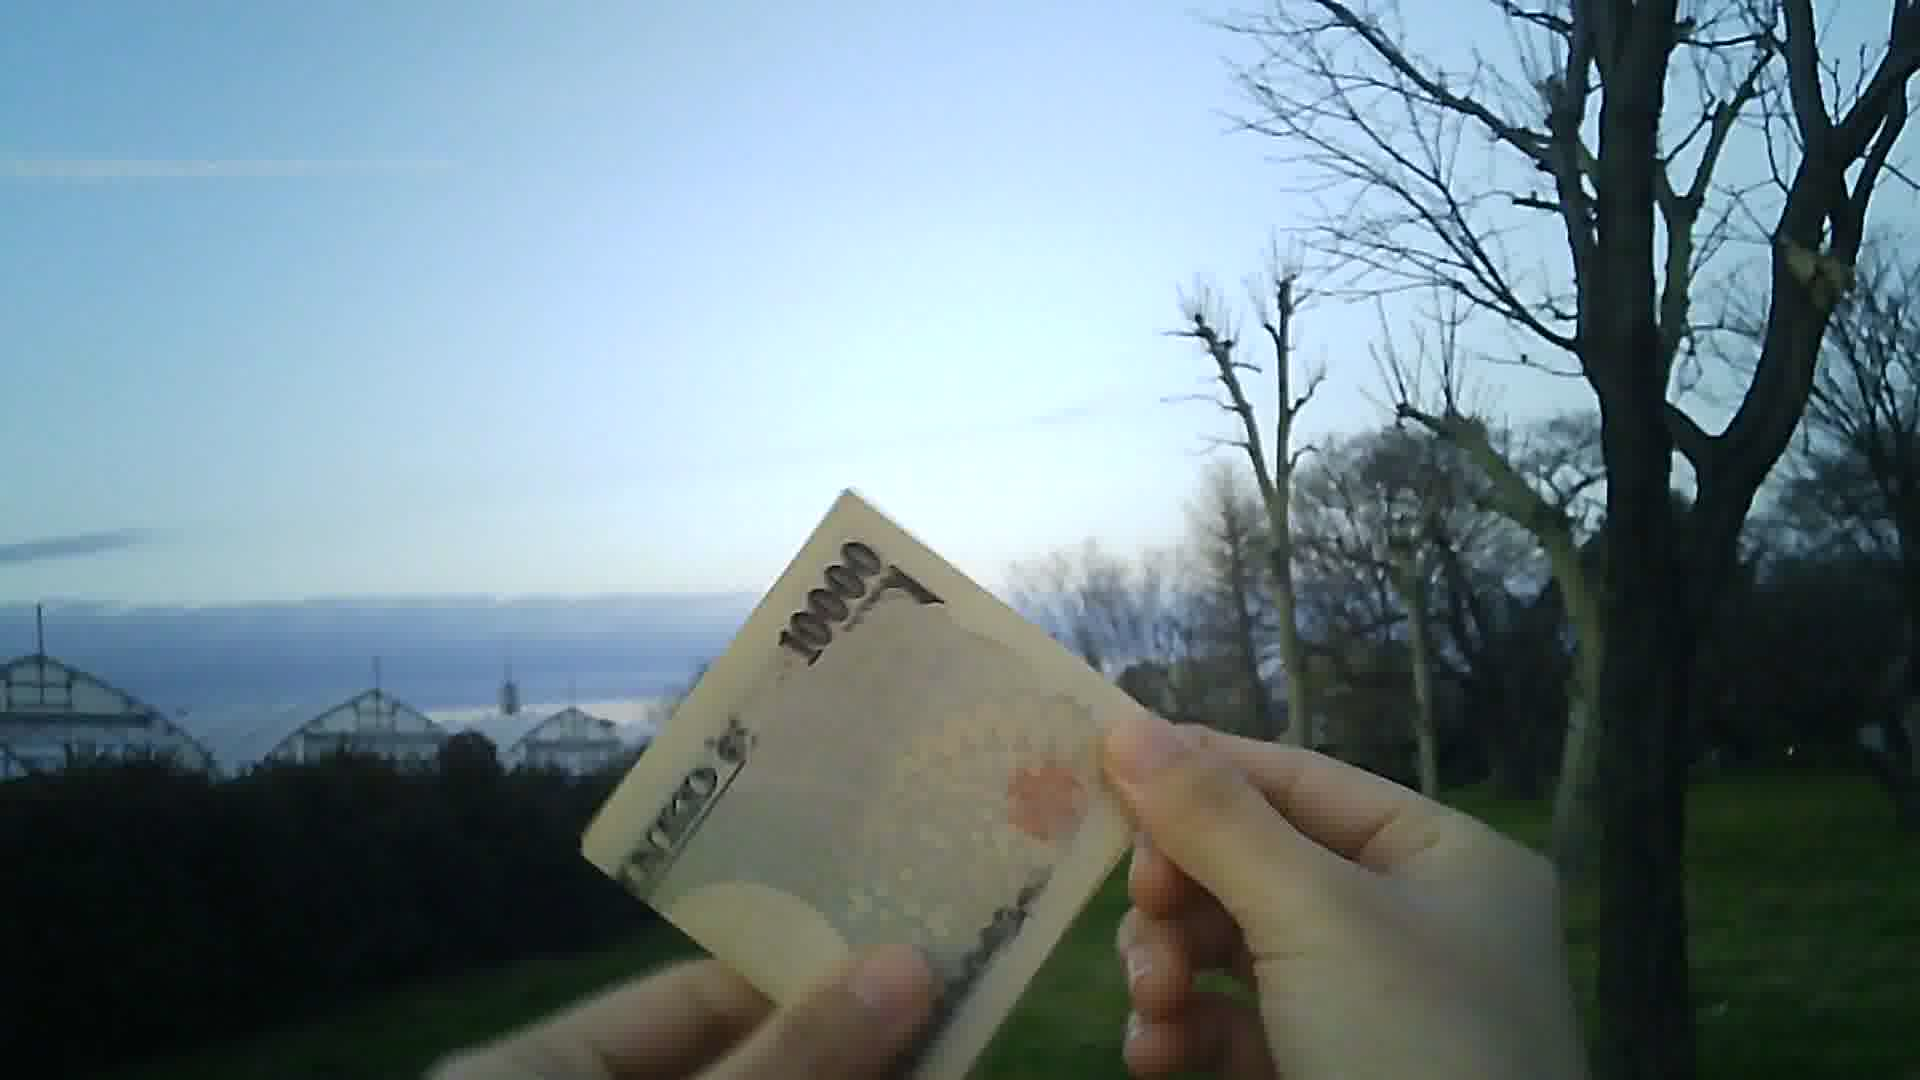10,000 Yen: (553, 473, 1226, 1062)
